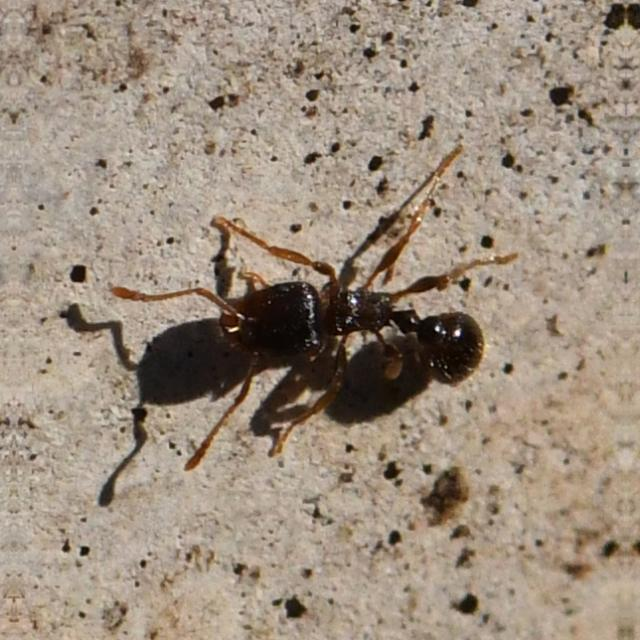Tetramorium: (163, 200, 532, 438)
